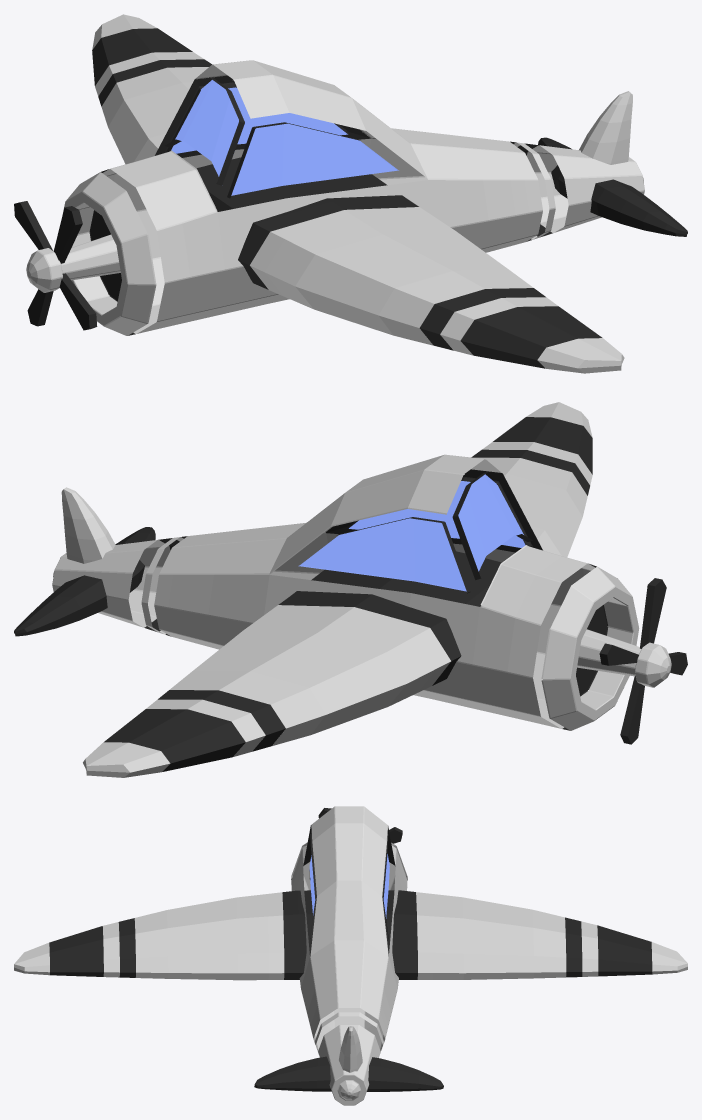
Rendered from airplane_v3.glb.
The picture shows the model from 3 angles, top to bottom: view 1: azimuth 30°, elevation 25°; view 2: azimuth 150°, elevation 25°; view 3: azimuth 270°, elevation 25°; orthographic projection. The views are drawn at different scales.
Parts seen in each view (by area): view 1: Airplane, Wings, TailSide, Fan, TailUpper; view 2: Airplane, Wings, TailSide, Fan, TailUpper; view 3: Wings, Airplane, TailSide, TailUpper.
Part boxes in pixels (left/top/right/bottom): Airplane: left=26, top=60, right=644, bottom=335; Wings: left=92, top=14, right=624, bottom=373; TailSide: left=538, top=137, right=687, bottom=236; Fan: left=14, top=201, right=97, bottom=330; TailUpper: left=579, top=91, right=632, bottom=164; Airplane: left=52, top=454, right=671, bottom=730; Wings: left=83, top=402, right=592, bottom=777; TailSide: left=14, top=527, right=155, bottom=636; Fan: left=599, top=578, right=687, bottom=744; TailUpper: left=61, top=487, right=115, bottom=563; Wings: left=14, top=890, right=687, bottom=980; Airplane: left=291, top=806, right=407, bottom=1105; TailSide: left=254, top=1056, right=443, bottom=1091; TailUpper: left=339, top=1026, right=362, bottom=1072.
Size of the model in its own units: 9.56 by 3.52 by 13.09.
